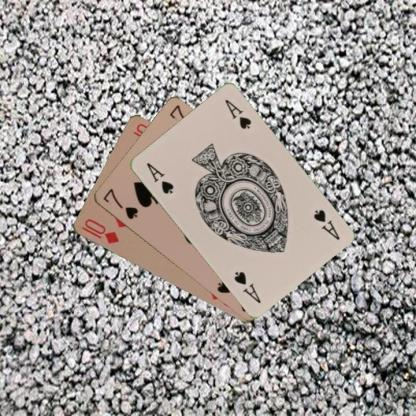10d: (79, 216, 120, 246)
7s: (100, 186, 139, 220)
As: (143, 160, 175, 196), (310, 206, 341, 242)
